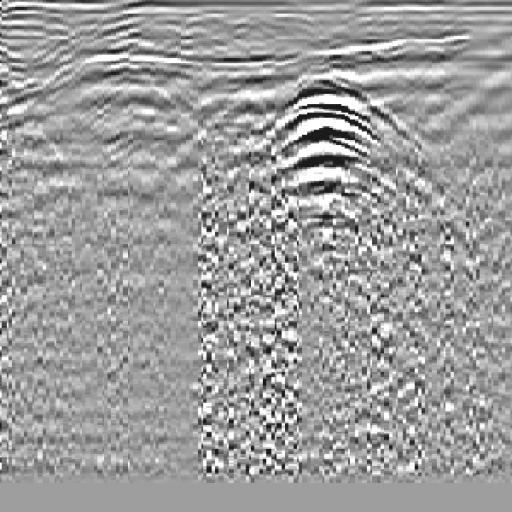metalic: (249, 65, 417, 250)
